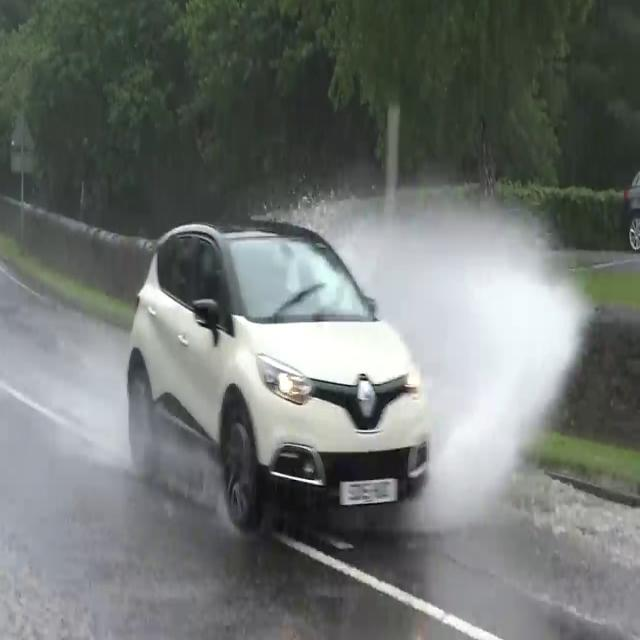license-plate-annotation: (340, 477, 398, 504)
